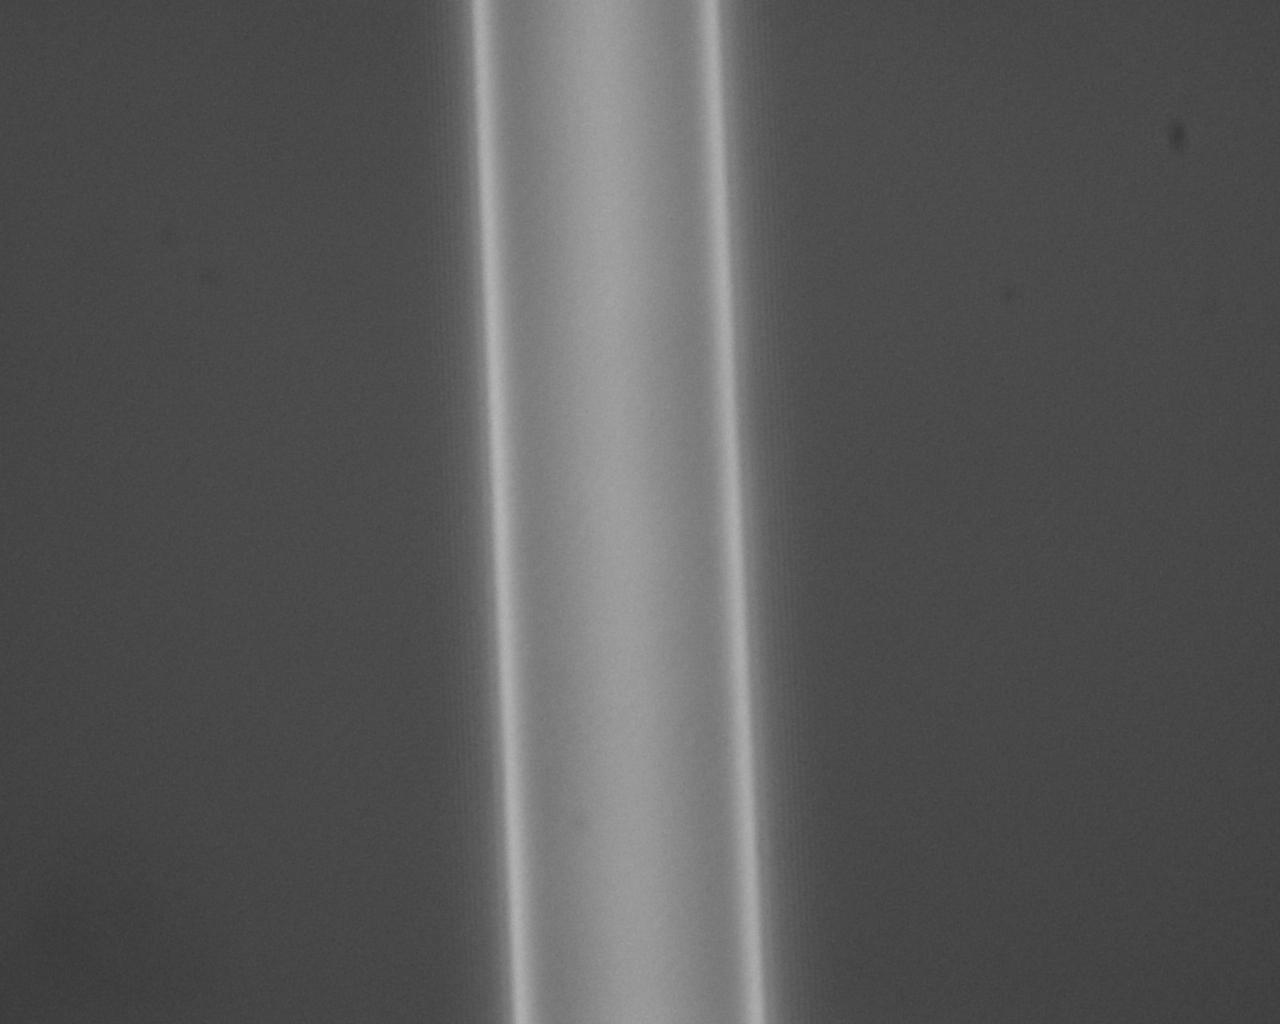fiber: (334, 0, 1058, 1024)
